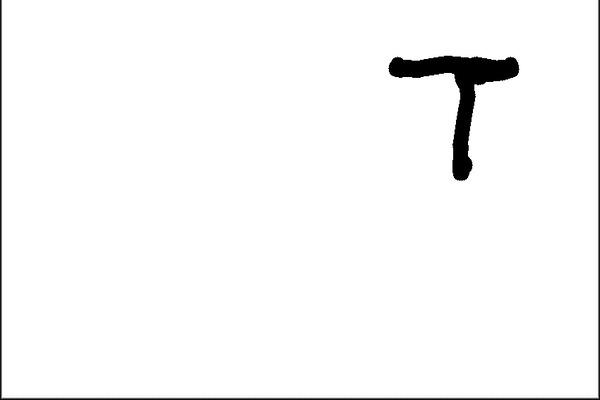T: (382, 43, 522, 184)
